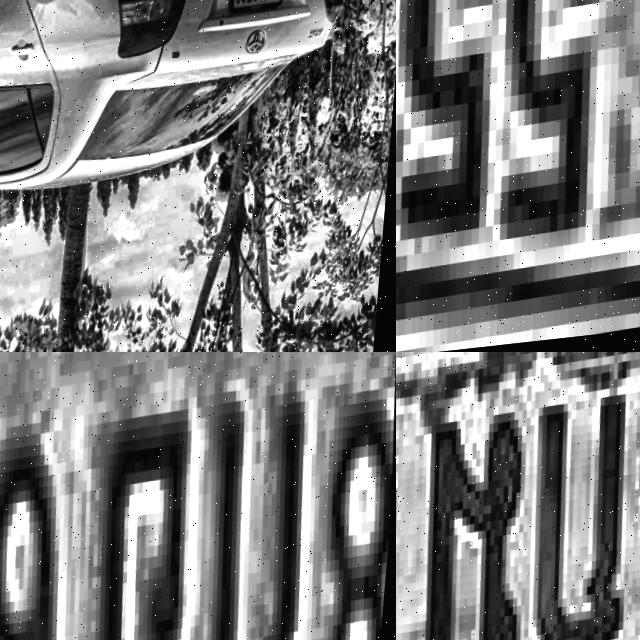license-plate: (0, 352, 396, 640), (396, 0, 640, 352), (396, 352, 640, 640), (229, 0, 290, 28)
